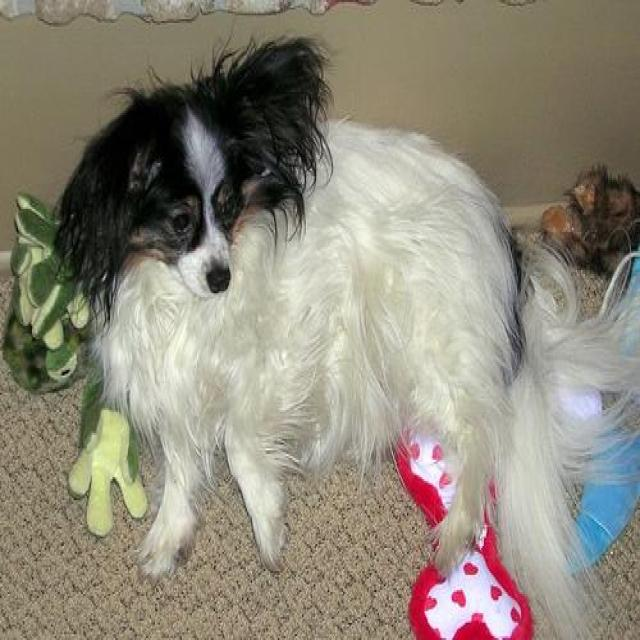papillon: (50, 36, 639, 638)
